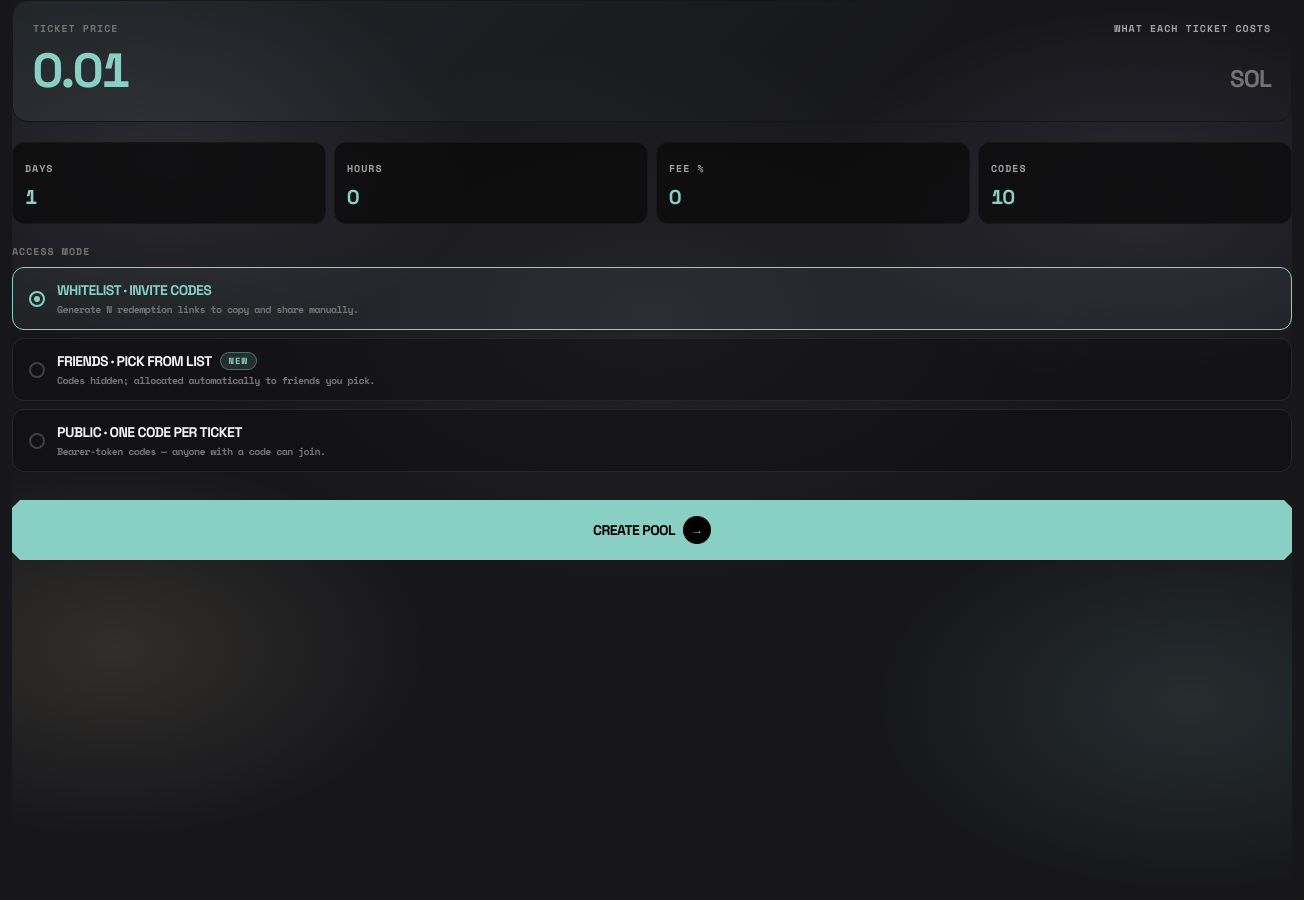
Test case: <CreatePoolForm /> › rejects duration > 90 days
Replace the text in the number field labelled "Days" with "91": point(169, 197) x1=25 y1=183 x2=313 y2=211
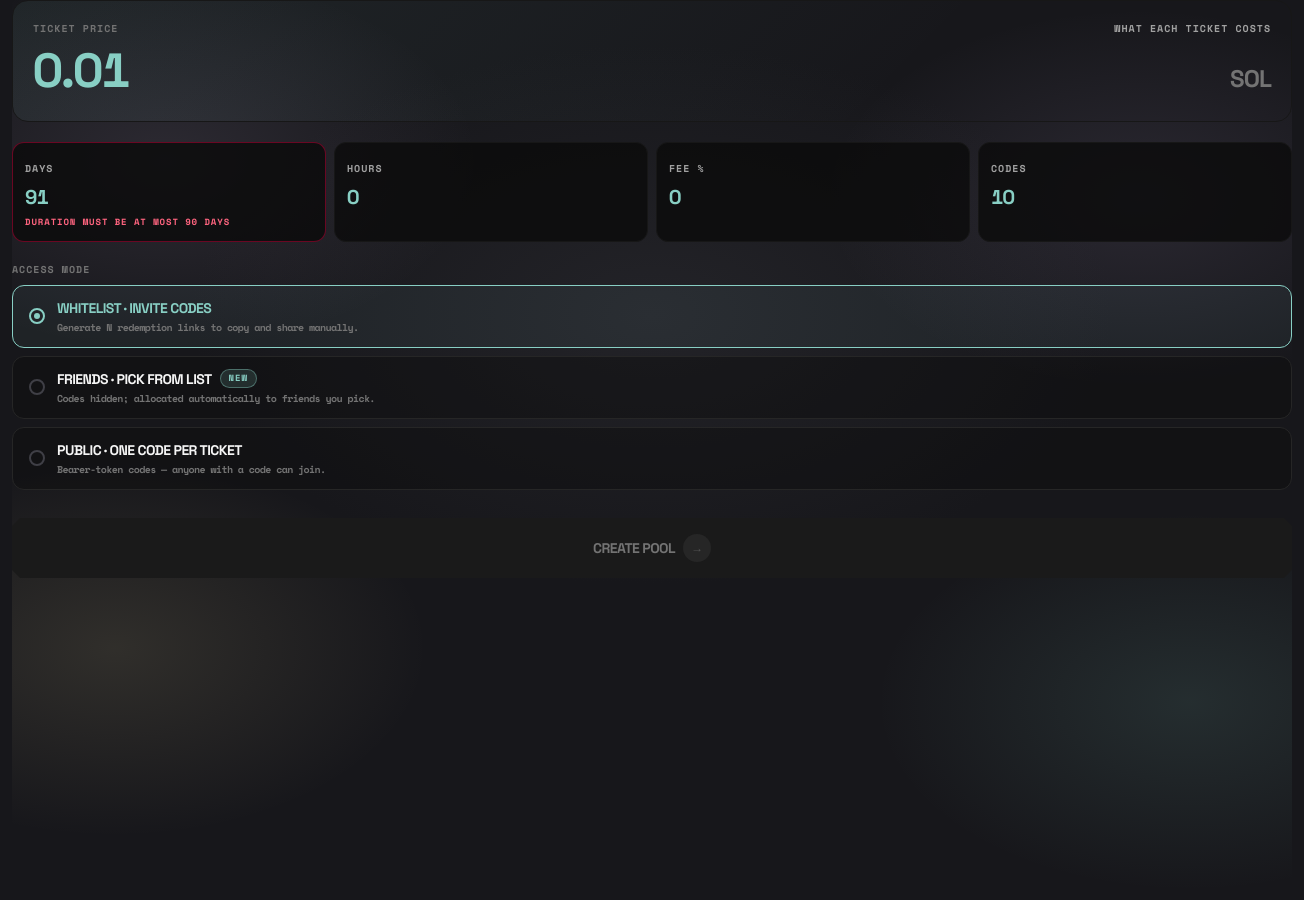
Expected: the text "Duration must be at most 90 days" is shown, x1=25 y1=215 x2=230 y2=228
